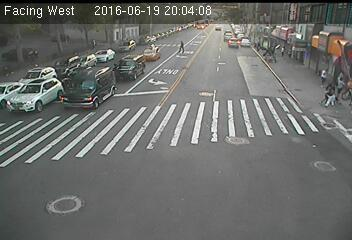neg: (60, 129, 81, 156), (245, 176, 263, 200), (293, 142, 311, 166), (214, 166, 231, 189), (33, 168, 50, 191), (76, 51, 92, 72), (213, 126, 229, 147), (169, 176, 185, 196), (107, 181, 122, 201), (90, 86, 105, 105), (48, 88, 63, 107), (278, 90, 292, 110), (257, 11, 270, 29), (237, 76, 250, 93), (119, 78, 132, 95), (184, 129, 197, 146), (258, 140, 271, 157), (301, 18, 313, 34), (207, 80, 218, 95), (110, 139, 121, 154), (241, 127, 252, 142), (20, 129, 31, 144), (217, 43, 227, 56), (153, 131, 163, 144), (264, 65, 274, 78), (208, 11, 218, 24), (117, 12, 127, 25), (170, 73, 179, 85), (274, 129, 283, 140), (238, 39, 246, 51), (175, 98, 183, 109), (297, 64, 305, 75), (154, 10, 162, 21)
pos: (332, 76, 349, 98), (323, 83, 340, 105), (316, 68, 330, 85), (175, 38, 187, 54), (279, 46, 288, 58)
